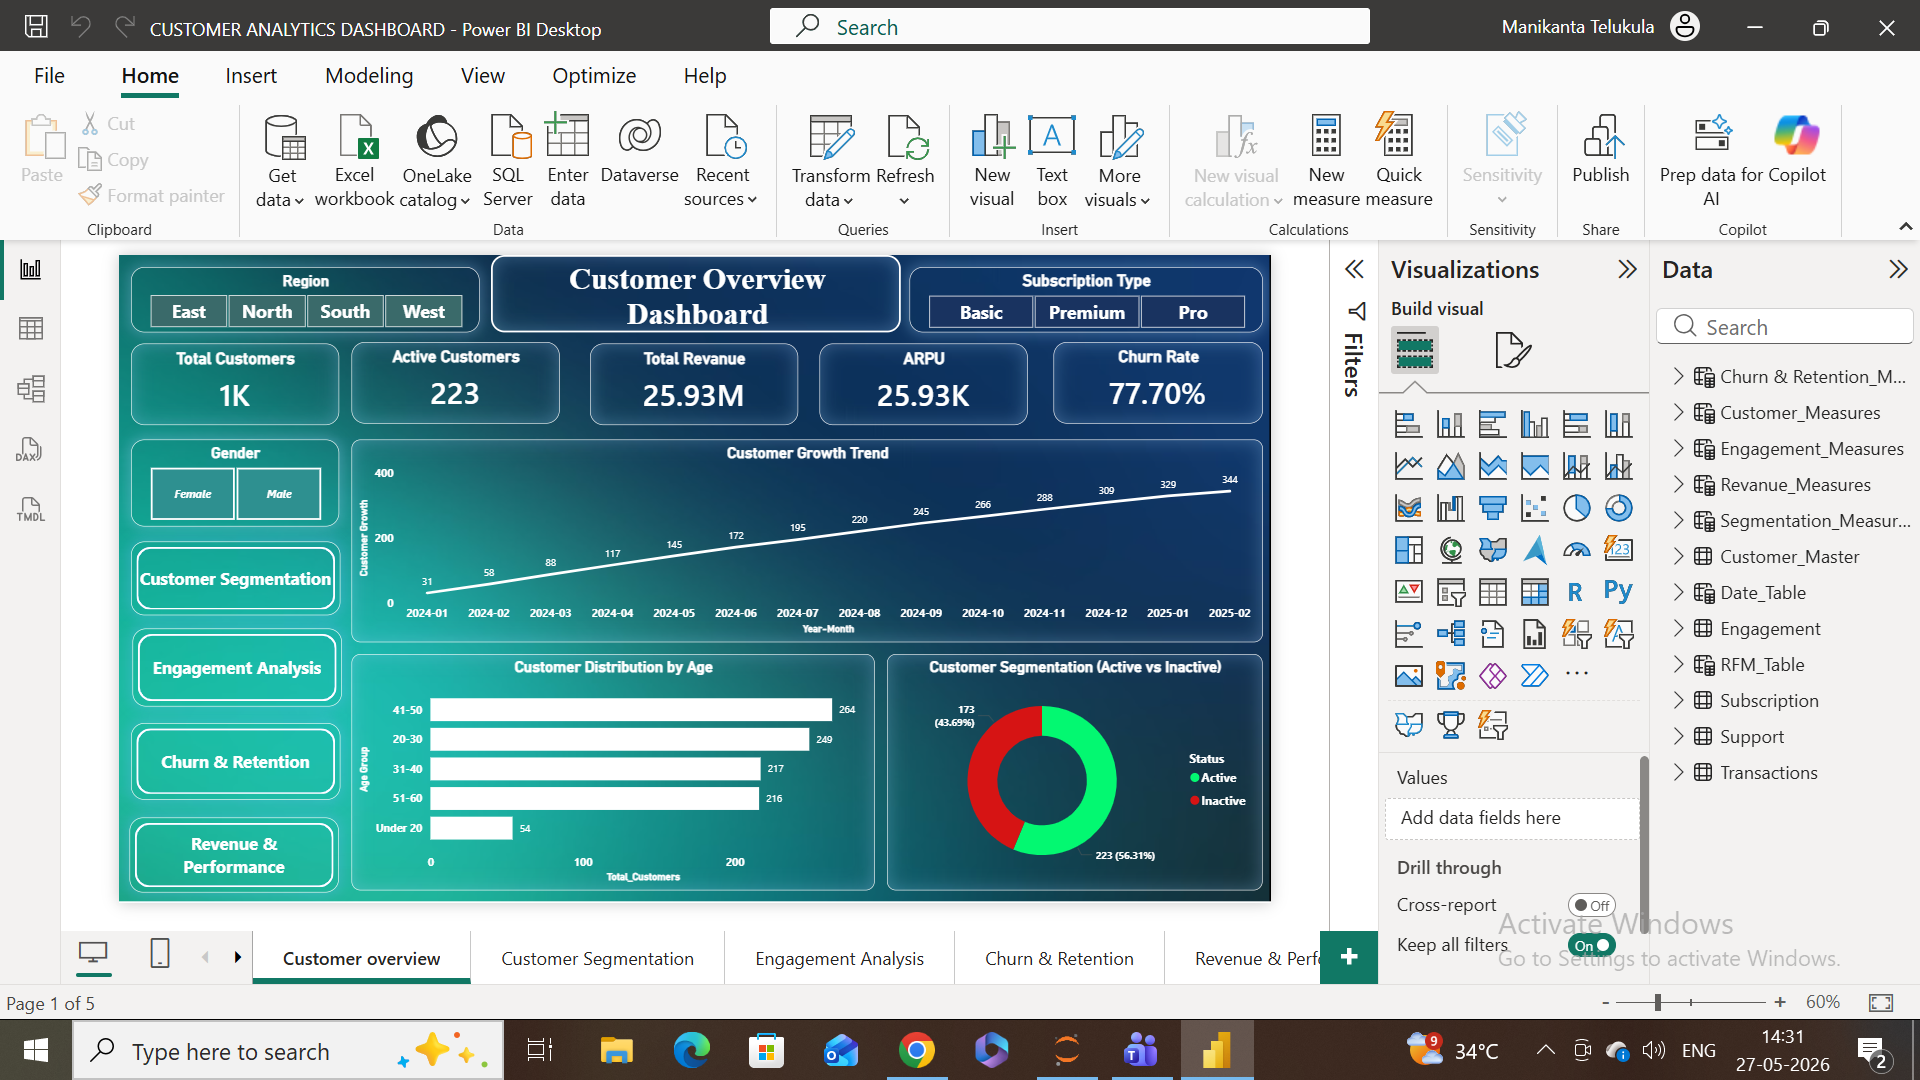

This screenshot's page, from the dashboard's own definition file:
{"tool":"powerbi","page":{"name":"Customer overview","canvas":[1280,720],"ordinal":0},"visuals":[{"type":"slicer","title":"Region","fields":{"Values":["Customer_Master.Region"]},"box":[13.5,13.5,387.6,72.8],"z":0},{"type":"textbox","title":"Customer Overview Dashboard","box":[412.9,0,455.3,86.3],"z":1000},{"type":"slicer","title":"Subscription Type","fields":{"Values":["Subscription.PlanType"]},"box":[878.3,13.5,392.6,72.8],"z":2000},{"type":"cardVisual","title":"Total Customers","fields":{"Data":["Customer_Measures.Total_Customers"]},"box":[14.1,98.5,231.3,90.7],"z":3000},{"type":"cardVisual","title":"Active Customers","fields":{"Data":["Customer_Measures.Active Customers"]},"box":[257.9,96.9,231.3,90.7],"z":4000},{"type":"cardVisual","title":"Total Revanue","fields":{"Data":["Revanue_Measures.Total Revenue"]},"box":[523.6,98.5,231.3,90.7],"z":5000},{"type":"cardVisual","title":"ARPU","fields":{"Data":["Revanue_Measures.ARPU"]},"box":[778.4,98.5,231.3,90.7],"z":6000},{"type":"cardVisual","title":"Churn Rate","fields":{"Data":["Churn & Retention_Measures.Churn Rate"]},"box":[1037.8,96.9,232.9,90.7],"z":7000},{"type":"slicer","title":"Gender","fields":{"Values":["Customer_Master.Gender"]},"box":[14.1,204.8,231.3,96.9],"z":8000},{"type":"lineChart","title":"Customer Growth Trend","fields":{"Y":["Customer_Measures.Customer Growth"],"Category":["Date_Table.Year-Month"]},"box":[257.9,204.8,1012.8,225.1],"z":9000},{"type":"barChart","title":"Customer Distribution by Age","fields":{"Y":["Customer_Measures.Total_Customers"],"Category":["Customer_Master.Age Group"]},"box":[257.9,443.9,581.4,262.6],"z":10000},{"type":"donutChart","title":"Customer Segmentation (Active vs Inactive)","fields":{"Y":["Customer_Measures.Total_Customers"],"Category":["Subscription.Status"]},"box":[853.4,443.9,417.3,262.6],"z":11000},{"type":"actionButton","box":[12.8,317.9,232.8,81.9],"z":12000},{"type":"actionButton","box":[14.4,414.2,232.8,86.7],"z":13000},{"type":"actionButton","box":[12.8,520.1,232.8,85.1],"z":14000},{"type":"actionButton","box":[11.2,624.5,232.8,83.5],"z":15000}]}

Visuals, with their boxes on the page's 1280x720 design canvas (x1, y1, x2, y2). These are canvas units, not pixel positions in the 1920x1080 screenshot, which may show the page scaled, cropped or inside an application window:
"Region" slicer: (14,14,401,86)
"Customer Overview Dashboard" textbox: (413,0,868,86)
"Subscription Type" slicer: (878,14,1271,86)
"Total Customers" cardVisual: (14,98,245,189)
"Active Customers" cardVisual: (258,97,489,188)
"Total Revanue" cardVisual: (524,98,755,189)
"ARPU" cardVisual: (778,98,1010,189)
"Churn Rate" cardVisual: (1038,97,1271,188)
"Gender" slicer: (14,205,245,302)
"Customer Growth Trend" lineChart: (258,205,1271,430)
"Customer Distribution by Age" barChart: (258,444,839,706)
"Customer Segmentation (Active vs Inactive)" donutChart: (853,444,1271,706)
actionButton: (13,318,246,400)
actionButton: (14,414,247,501)
actionButton: (13,520,246,605)
actionButton: (11,624,244,708)
